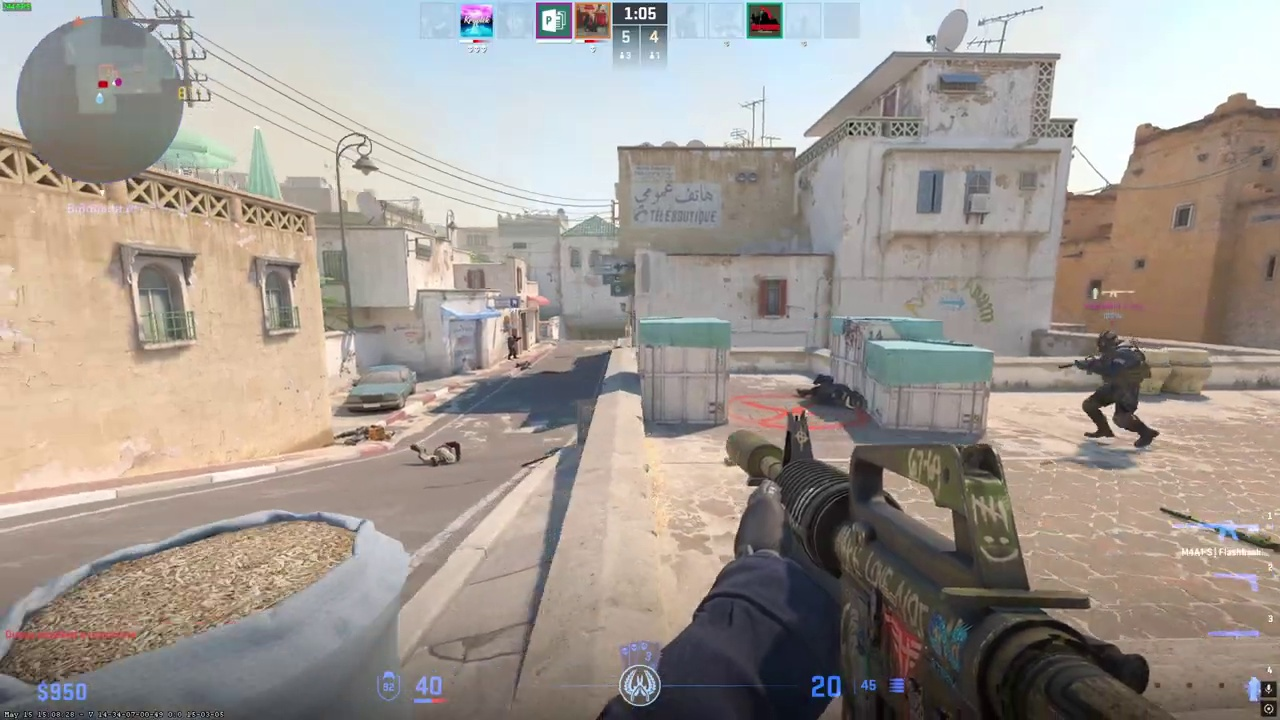CT: (1080, 330, 1155, 449), (506, 327, 520, 360)
